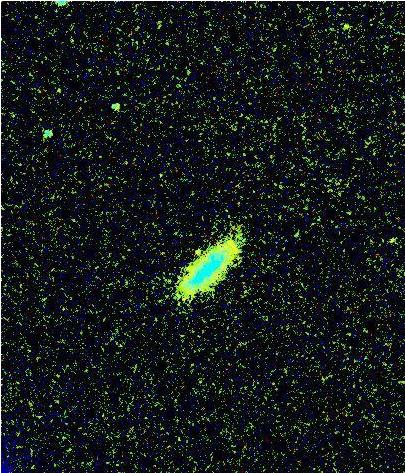star: (178, 234, 208, 264)
